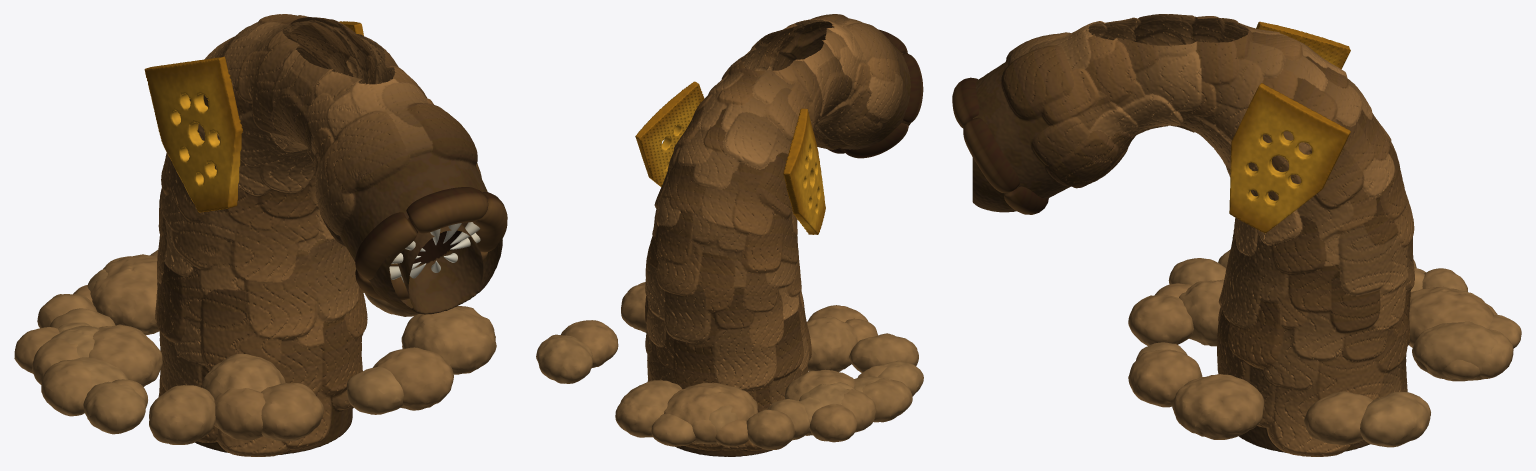
File: sand-wyrm-sculpt.glb
The picture shows the model from 3 angles, left to right: view 1: azimuth 30°, elevation 25°; view 2: azimuth 150°, elevation 25°; view 3: azimuth 270°, elevation 25°; orthographic projection. The views are drawn at different scales.
Visible parts, largest first — view 1: sand-wyrm_sculpt; view 2: sand-wyrm_sculpt; view 3: sand-wyrm_sculpt.
Boxes of the visible parts, bbox=[...] form: sand-wyrm_sculpt: bbox=[14, 14, 507, 456]; sand-wyrm_sculpt: bbox=[536, 14, 923, 456]; sand-wyrm_sculpt: bbox=[952, 14, 1521, 456].
Size of the model in its own units: 2.05 by 1.99 by 2.63.
